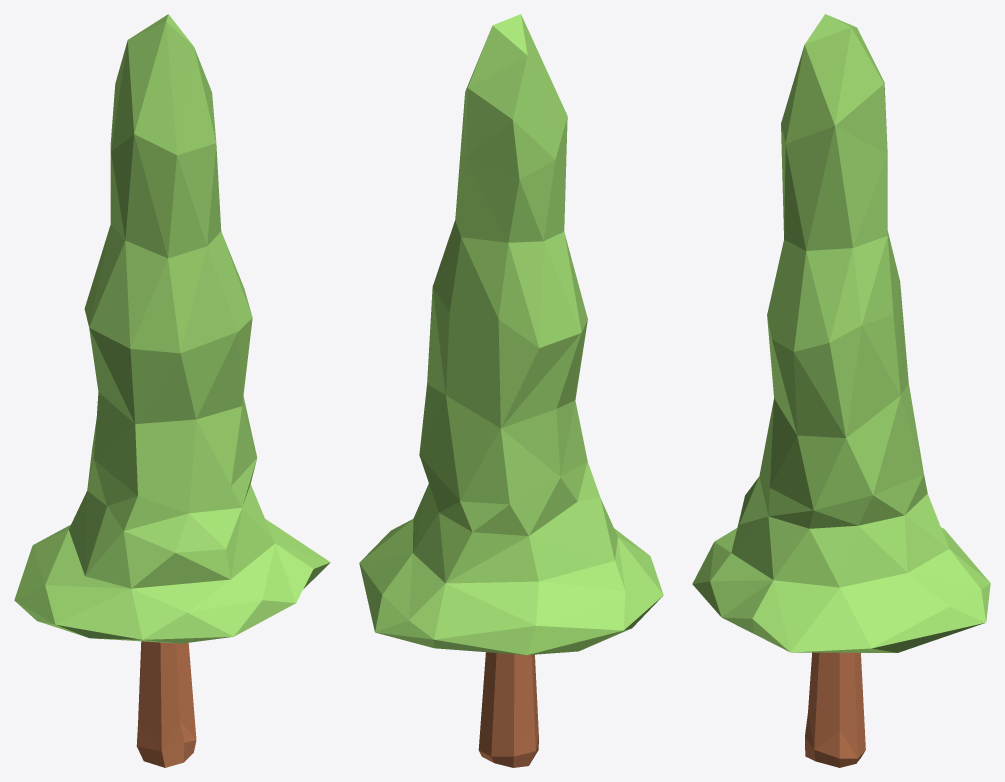
File: Tree4.fbx
The picture shows the model from 3 angles, left to right: view 1: azimuth 30°, elevation 25°; view 2: azimuth 150°, elevation 25°; view 3: azimuth 270°, elevation 25°; orthographic projection.
Parts seen in each view (by area): view 1: Tree4; view 2: Tree4; view 3: Tree4.
Part boxes in pixels (left/top/right/bottom): Tree4: left=14, top=14, right=330, bottom=767; Tree4: left=359, top=14, right=663, bottom=767; Tree4: left=692, top=14, right=990, bottom=767.
Size of the model in its own units: 1017 by 2624 by 953.
